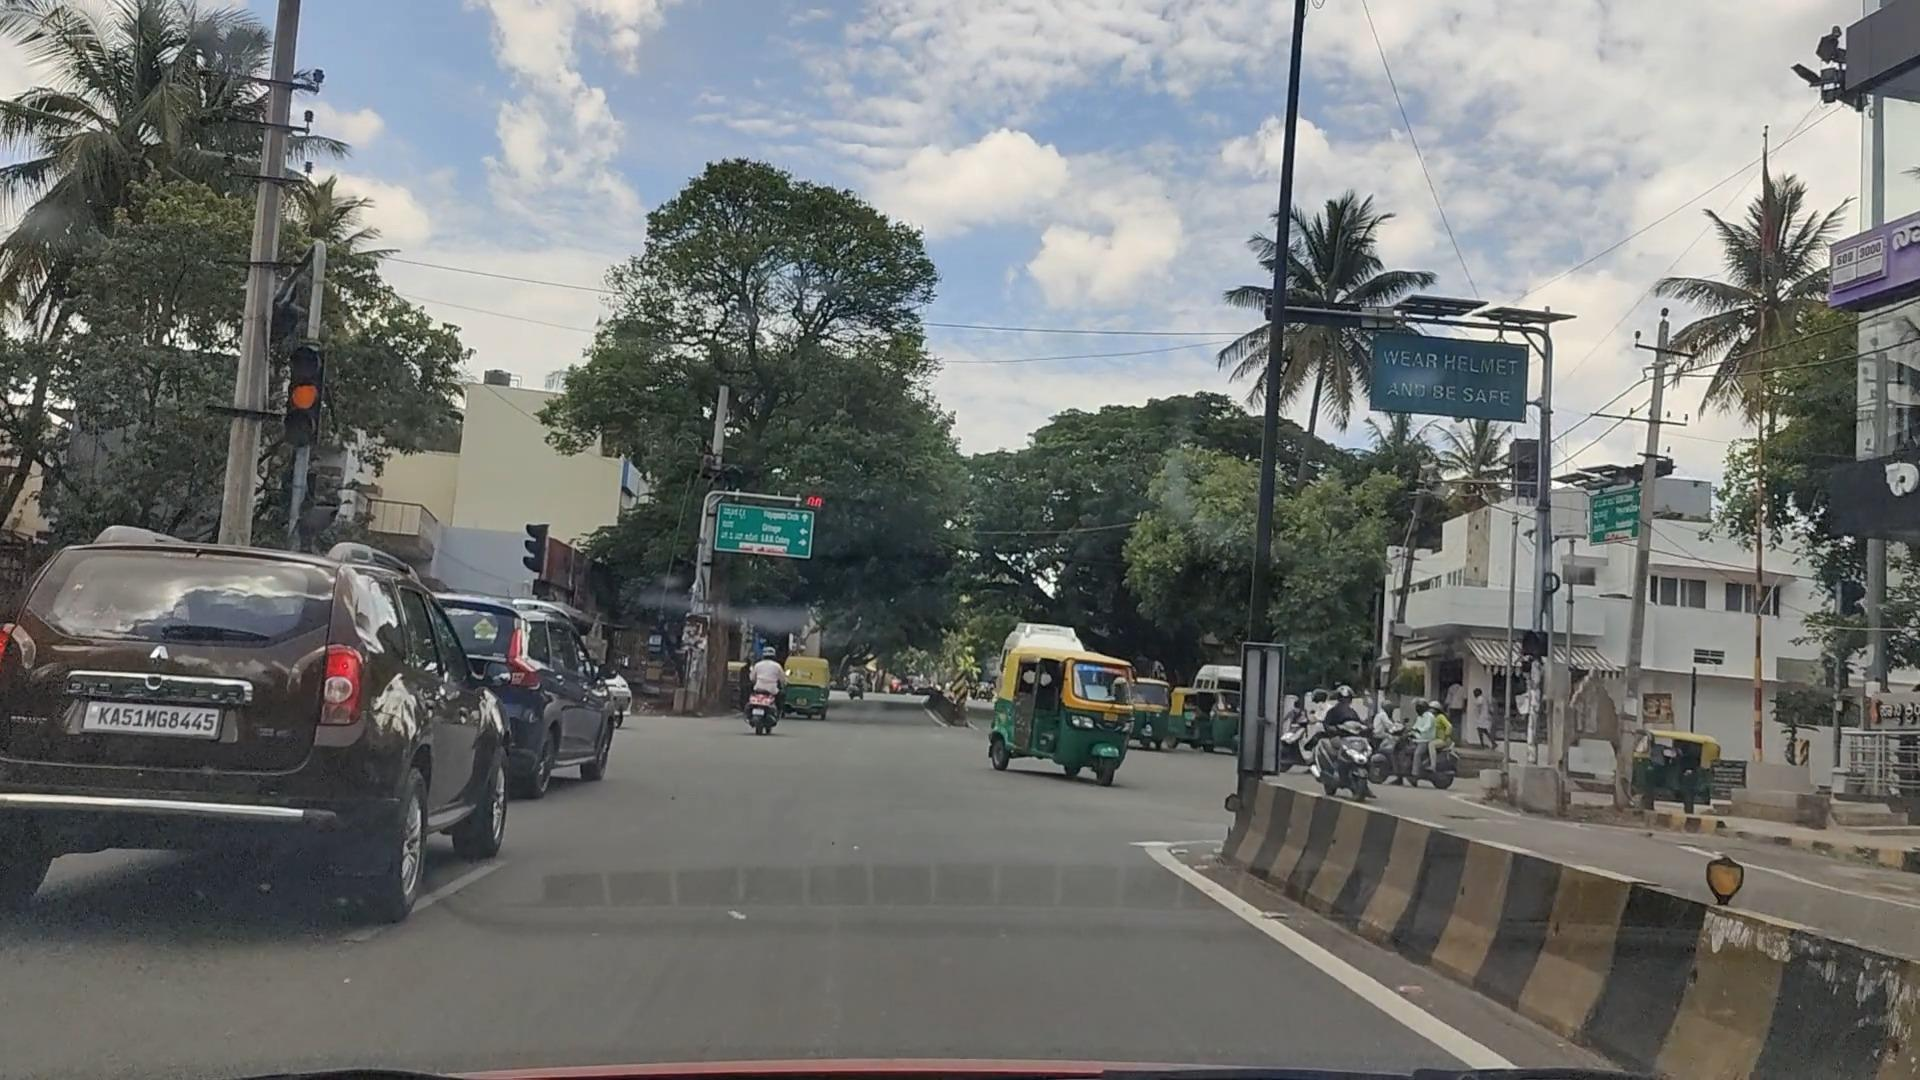LMV: (0, 505, 512, 918), (430, 563, 645, 808)
